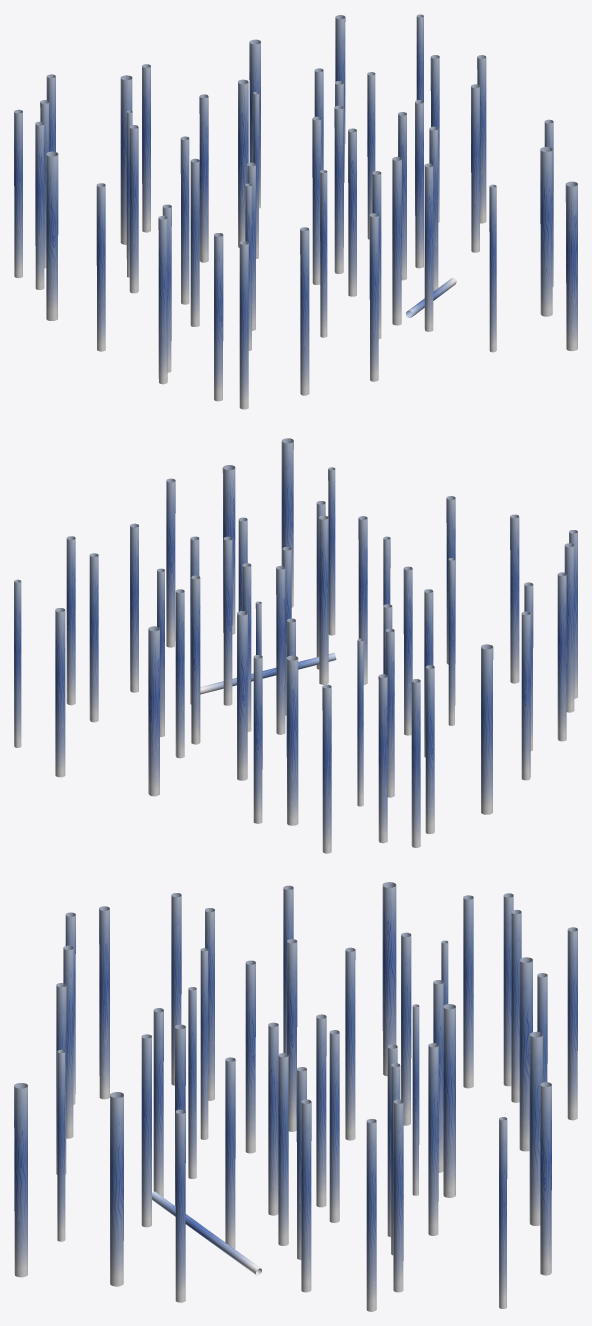
The model's file is trees.glb.
The picture shows the model from 3 angles, top to bottom: view 1: azimuth 30°, elevation 25°; view 2: azimuth 150°, elevation 25°; view 3: azimuth 270°, elevation 25°; orthographic projection. The views are drawn at different scales.
Parts seen in each view (by area): view 1: trees; view 2: trees; view 3: trees.
Boxes of the visible parts, box(x1,y1,x2,y2) form: trees: box(14, 14, 577, 409); trees: box(14, 438, 577, 853); trees: box(14, 882, 577, 1311).
Bounding box in the file's own units: 67.54 × 25.94 × 66.82.
Materials: 1 (1 with a texture image).
